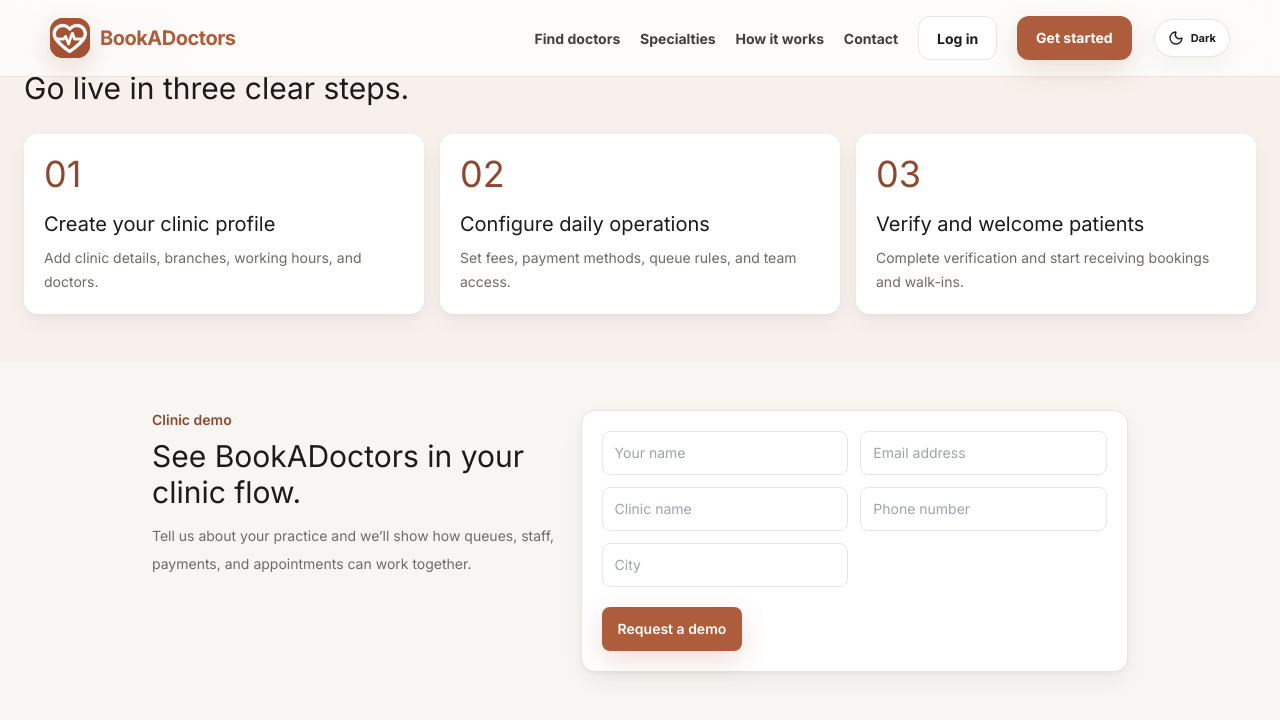
Scenario: ProviderLanding › submits the clinic demo request through the real store and shows a success message
(page scrolled)
Type "Dr. Priya Nair" into the field labelled "Your name" at (725, 453), box [602,431,848,475]
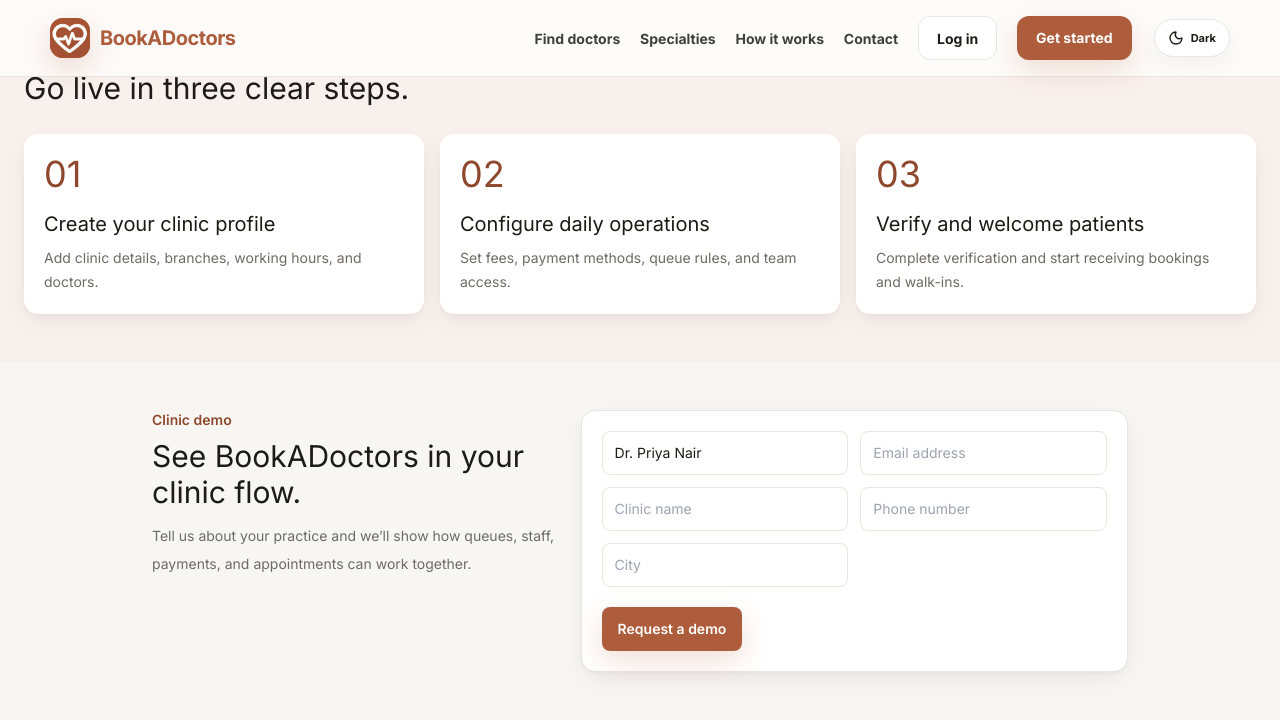
Type "priya@example.com" into the field labelled "Email address" at (984, 453), box [860,431,1107,475]
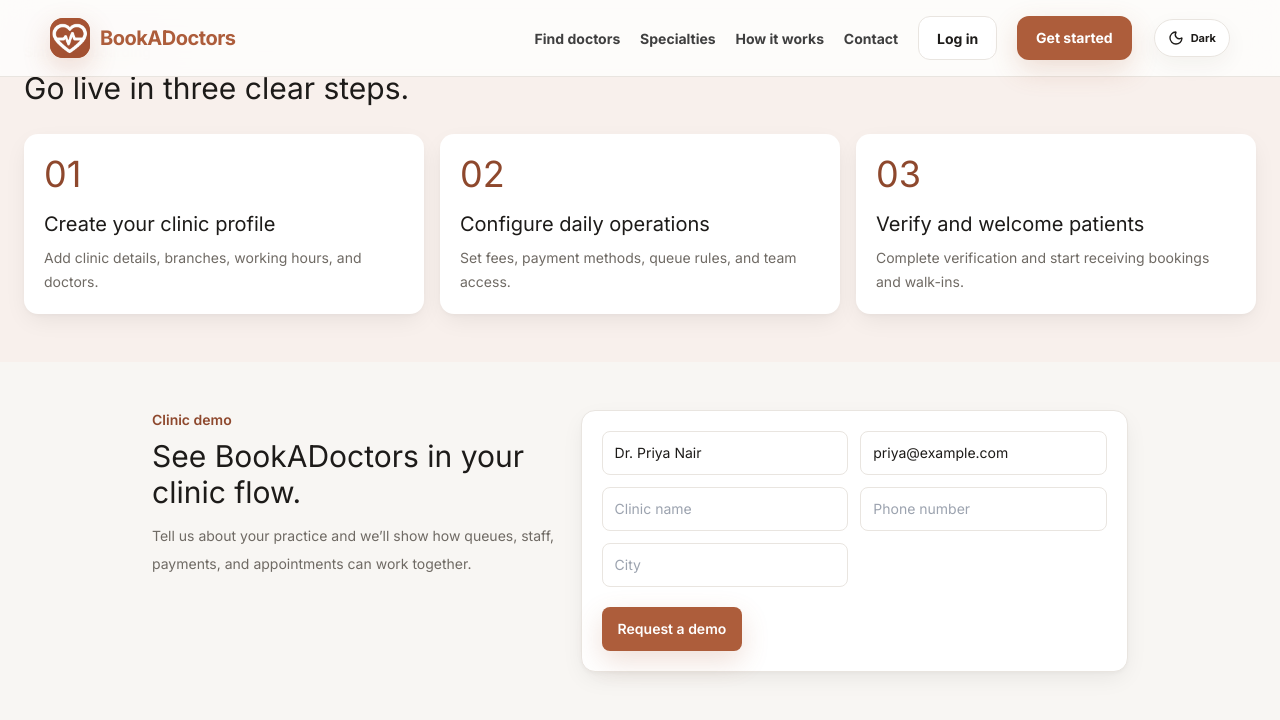
Type "Nair Clinic" into the field labelled "Clinic name" at (725, 509), box [602,487,848,531]
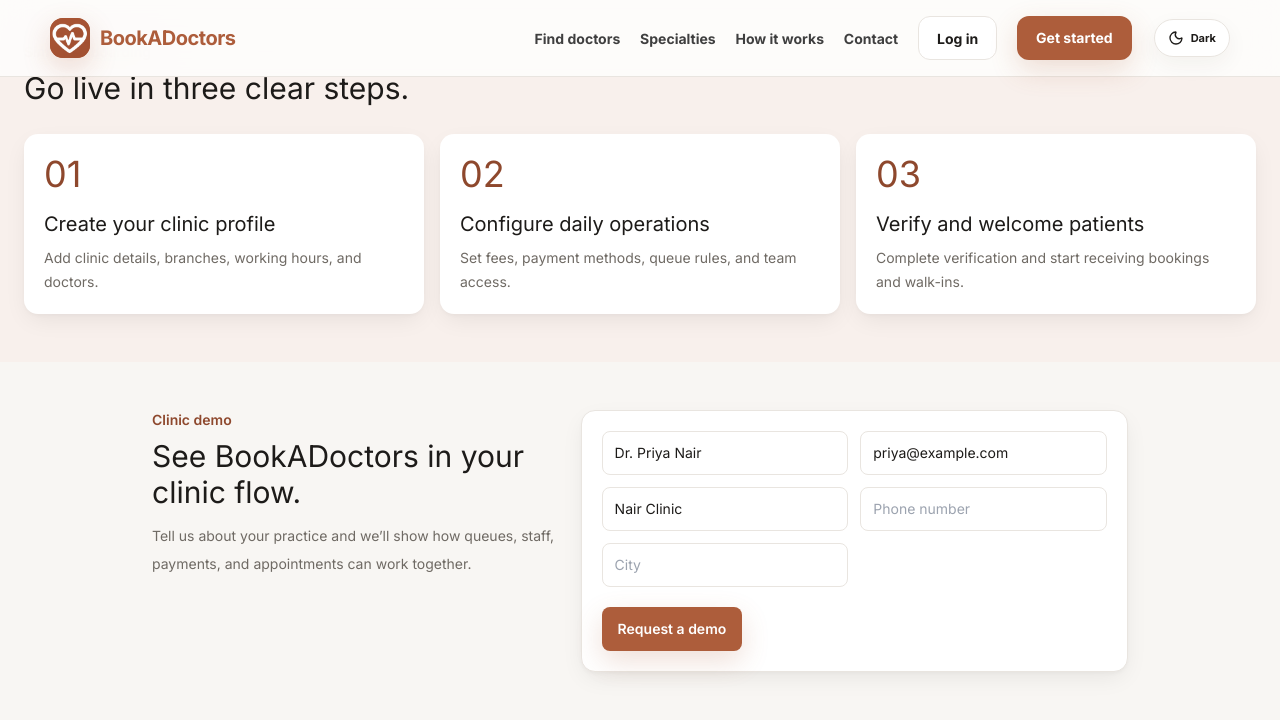
Type "9990001111" into the field labelled "Phone number" at (984, 509), box [860,487,1107,531]
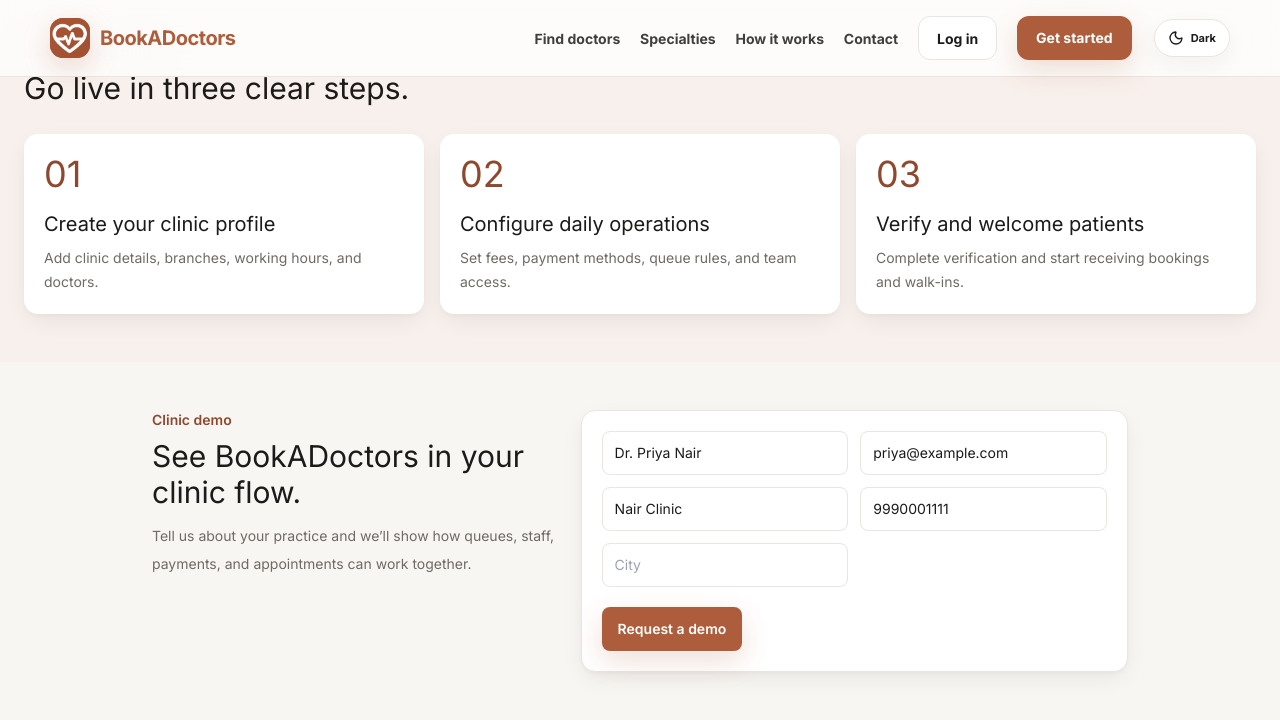
Type "Pune" into the field labelled "City" at (725, 565), box [602,543,848,587]
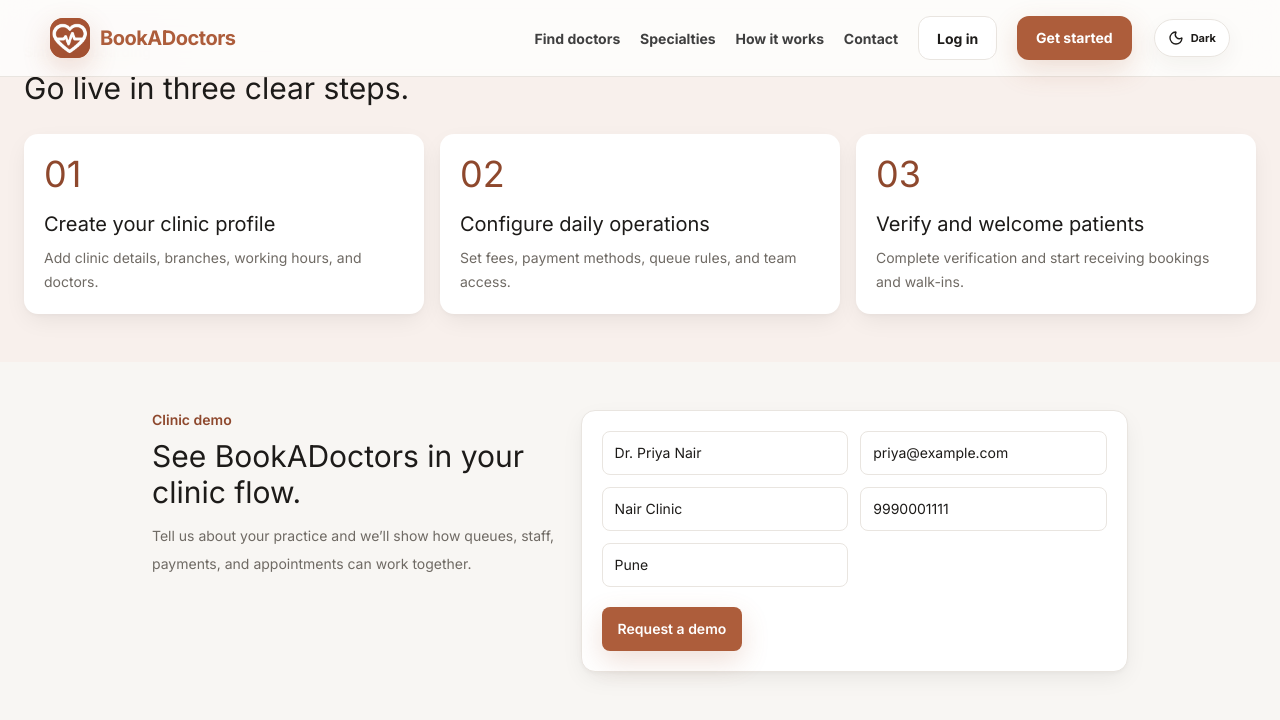
Click the button "Request a demo" at (672, 629), box [602,607,742,651]
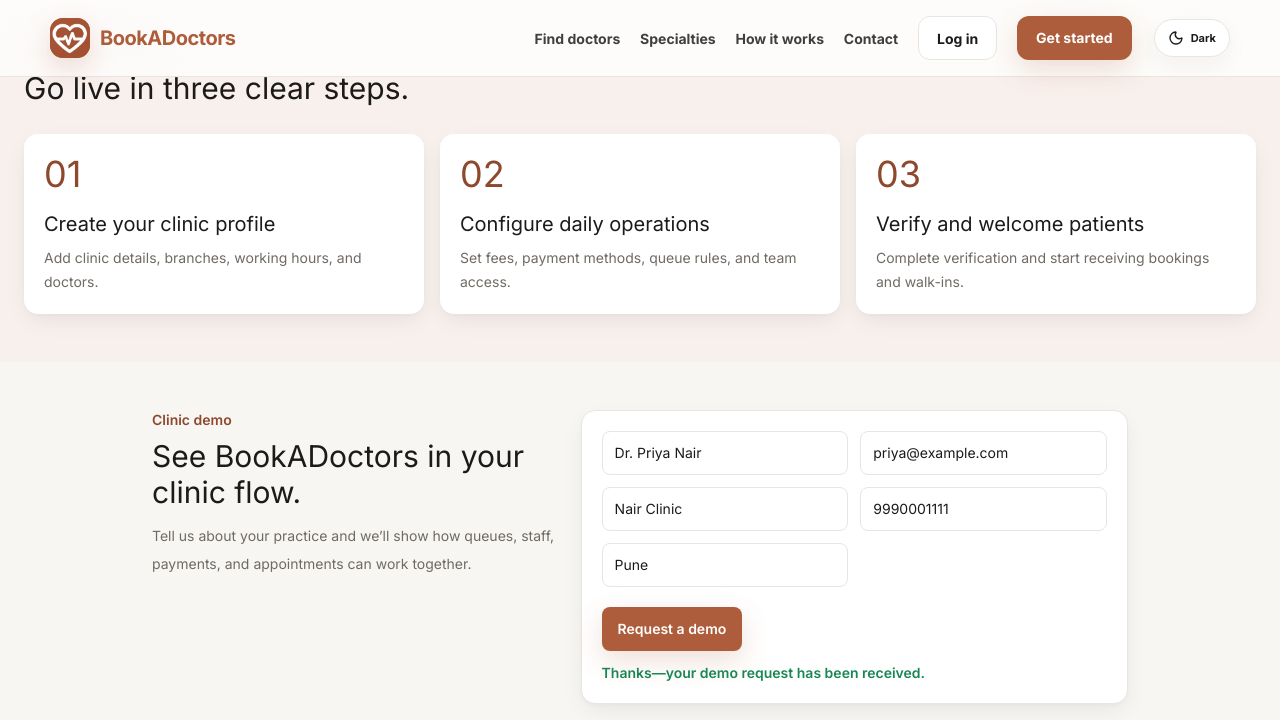
Expected: the text "Thanks—your demo request has been received." is shown, [602,664,925,681]
